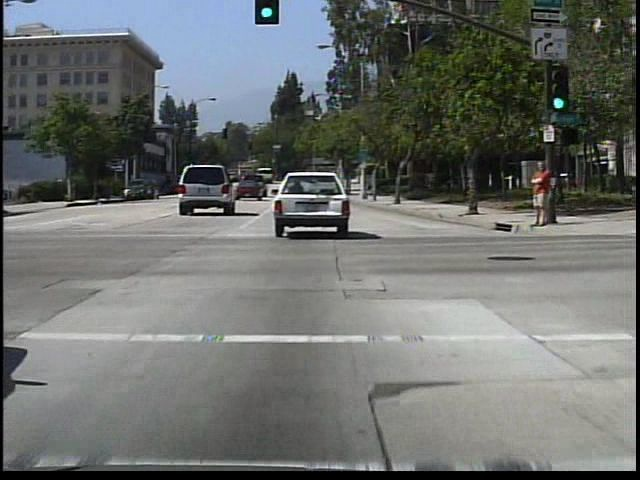person: (527, 158, 554, 231)
